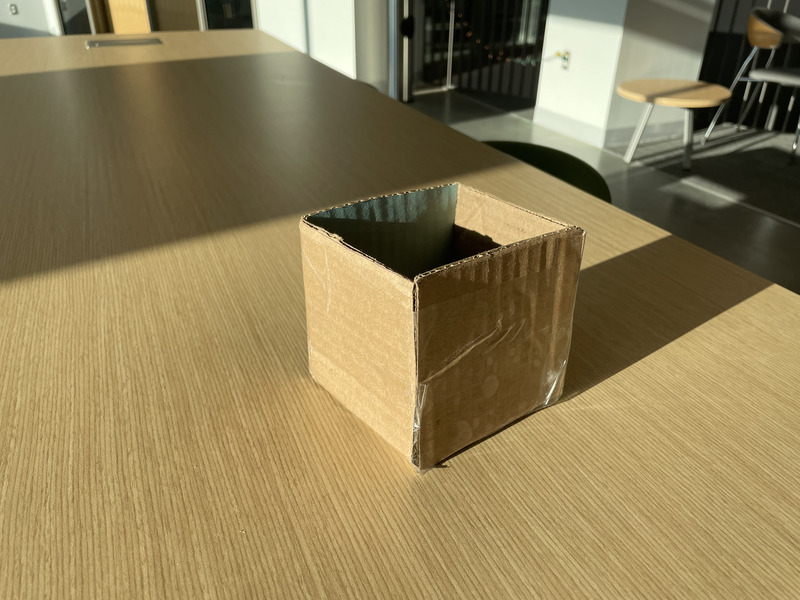payload3: (290, 173, 599, 482)
